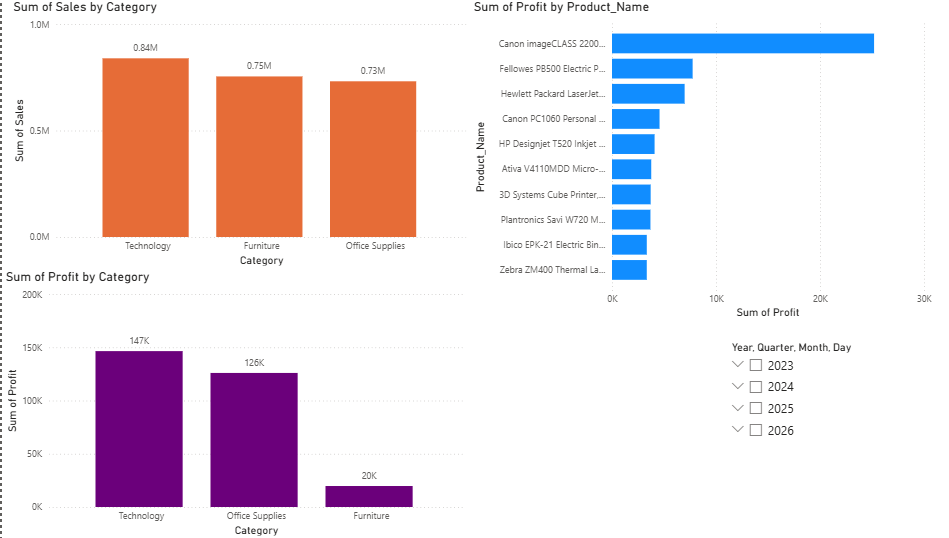

This screenshot's page, from the dashboard's own definition file:
{"tool":"powerbi","page":{"name":"category","canvas":[1280,720],"ordinal":2},"visuals":[{"type":"columnChart","fields":{"Y":["Sum(clean_superstore.Sales)"],"Category":["clean_superstore.Category"]},"box":[10,0,614,360],"z":0},{"type":"columnChart","fields":{"Category":["clean_superstore.Category"],"Y":["Sum(clean_superstore.Profit)"]},"box":[0,360,620,360],"z":1},{"type":"barChart","fields":{"Category":["clean_superstore.Product_Name"],"Y":["Sum(clean_superstore.Profit)"]},"box":[624,0,620,430],"z":2},{"type":"slicer","fields":{"Values":["clean_superstore.Order_Date.Variation.Date Hierarchy.Year","clean_superstore.Order_Date.Variation.Date Hierarchy.Quarter","clean_superstore.Order_Date.Variation.Date Hierarchy.Month","clean_superstore.Order_Date.Variation.Date Hierarchy.Day"]},"box":[960,450,284,270],"z":3}]}

Visuals, with their boxes in screenshot pixels (x1, y1, x2, y2), scaled from the page's 1280x720 canvas onto the 949x538 screenshot:
columnChart - Sum(clean_superstore.Sales) x clean_superstore.Category: BBox(7, 0, 463, 269)
columnChart - clean_superstore.Category x Sum(clean_superstore.Profit): BBox(0, 269, 460, 537)
barChart - clean_superstore.Product_Name x Sum(clean_superstore.Profit): BBox(463, 0, 922, 321)
slicer - clean_superstore.Order_Date.Variation.Date Hierarchy.Year x clean_superstore.Order_Date.Variation.Date Hierarchy.Quarter: BBox(712, 336, 922, 537)
